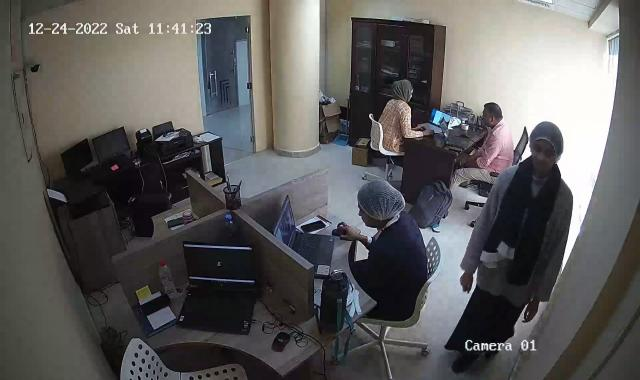hairnet: (356, 175, 406, 231), (528, 120, 564, 181)
no_hairnet: (391, 78, 415, 106), (479, 99, 503, 126)
